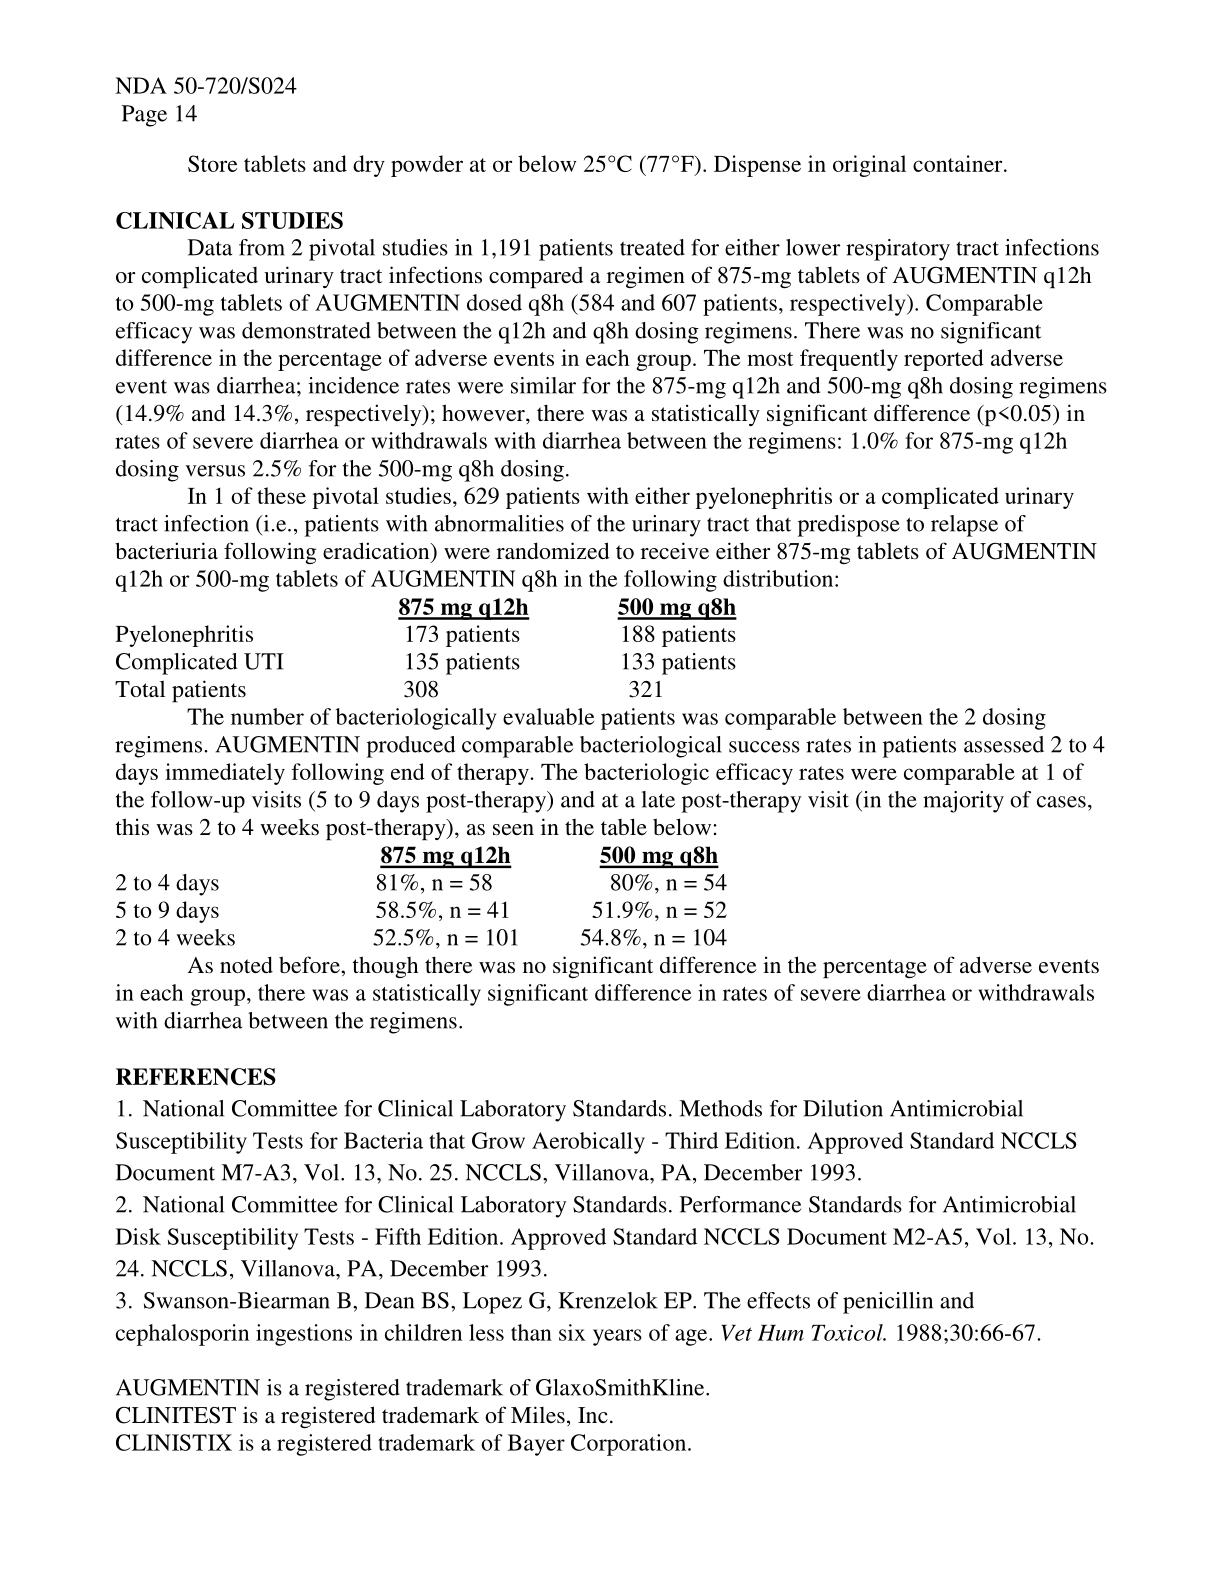nolines: (111, 842, 728, 949), (113, 597, 739, 701)
